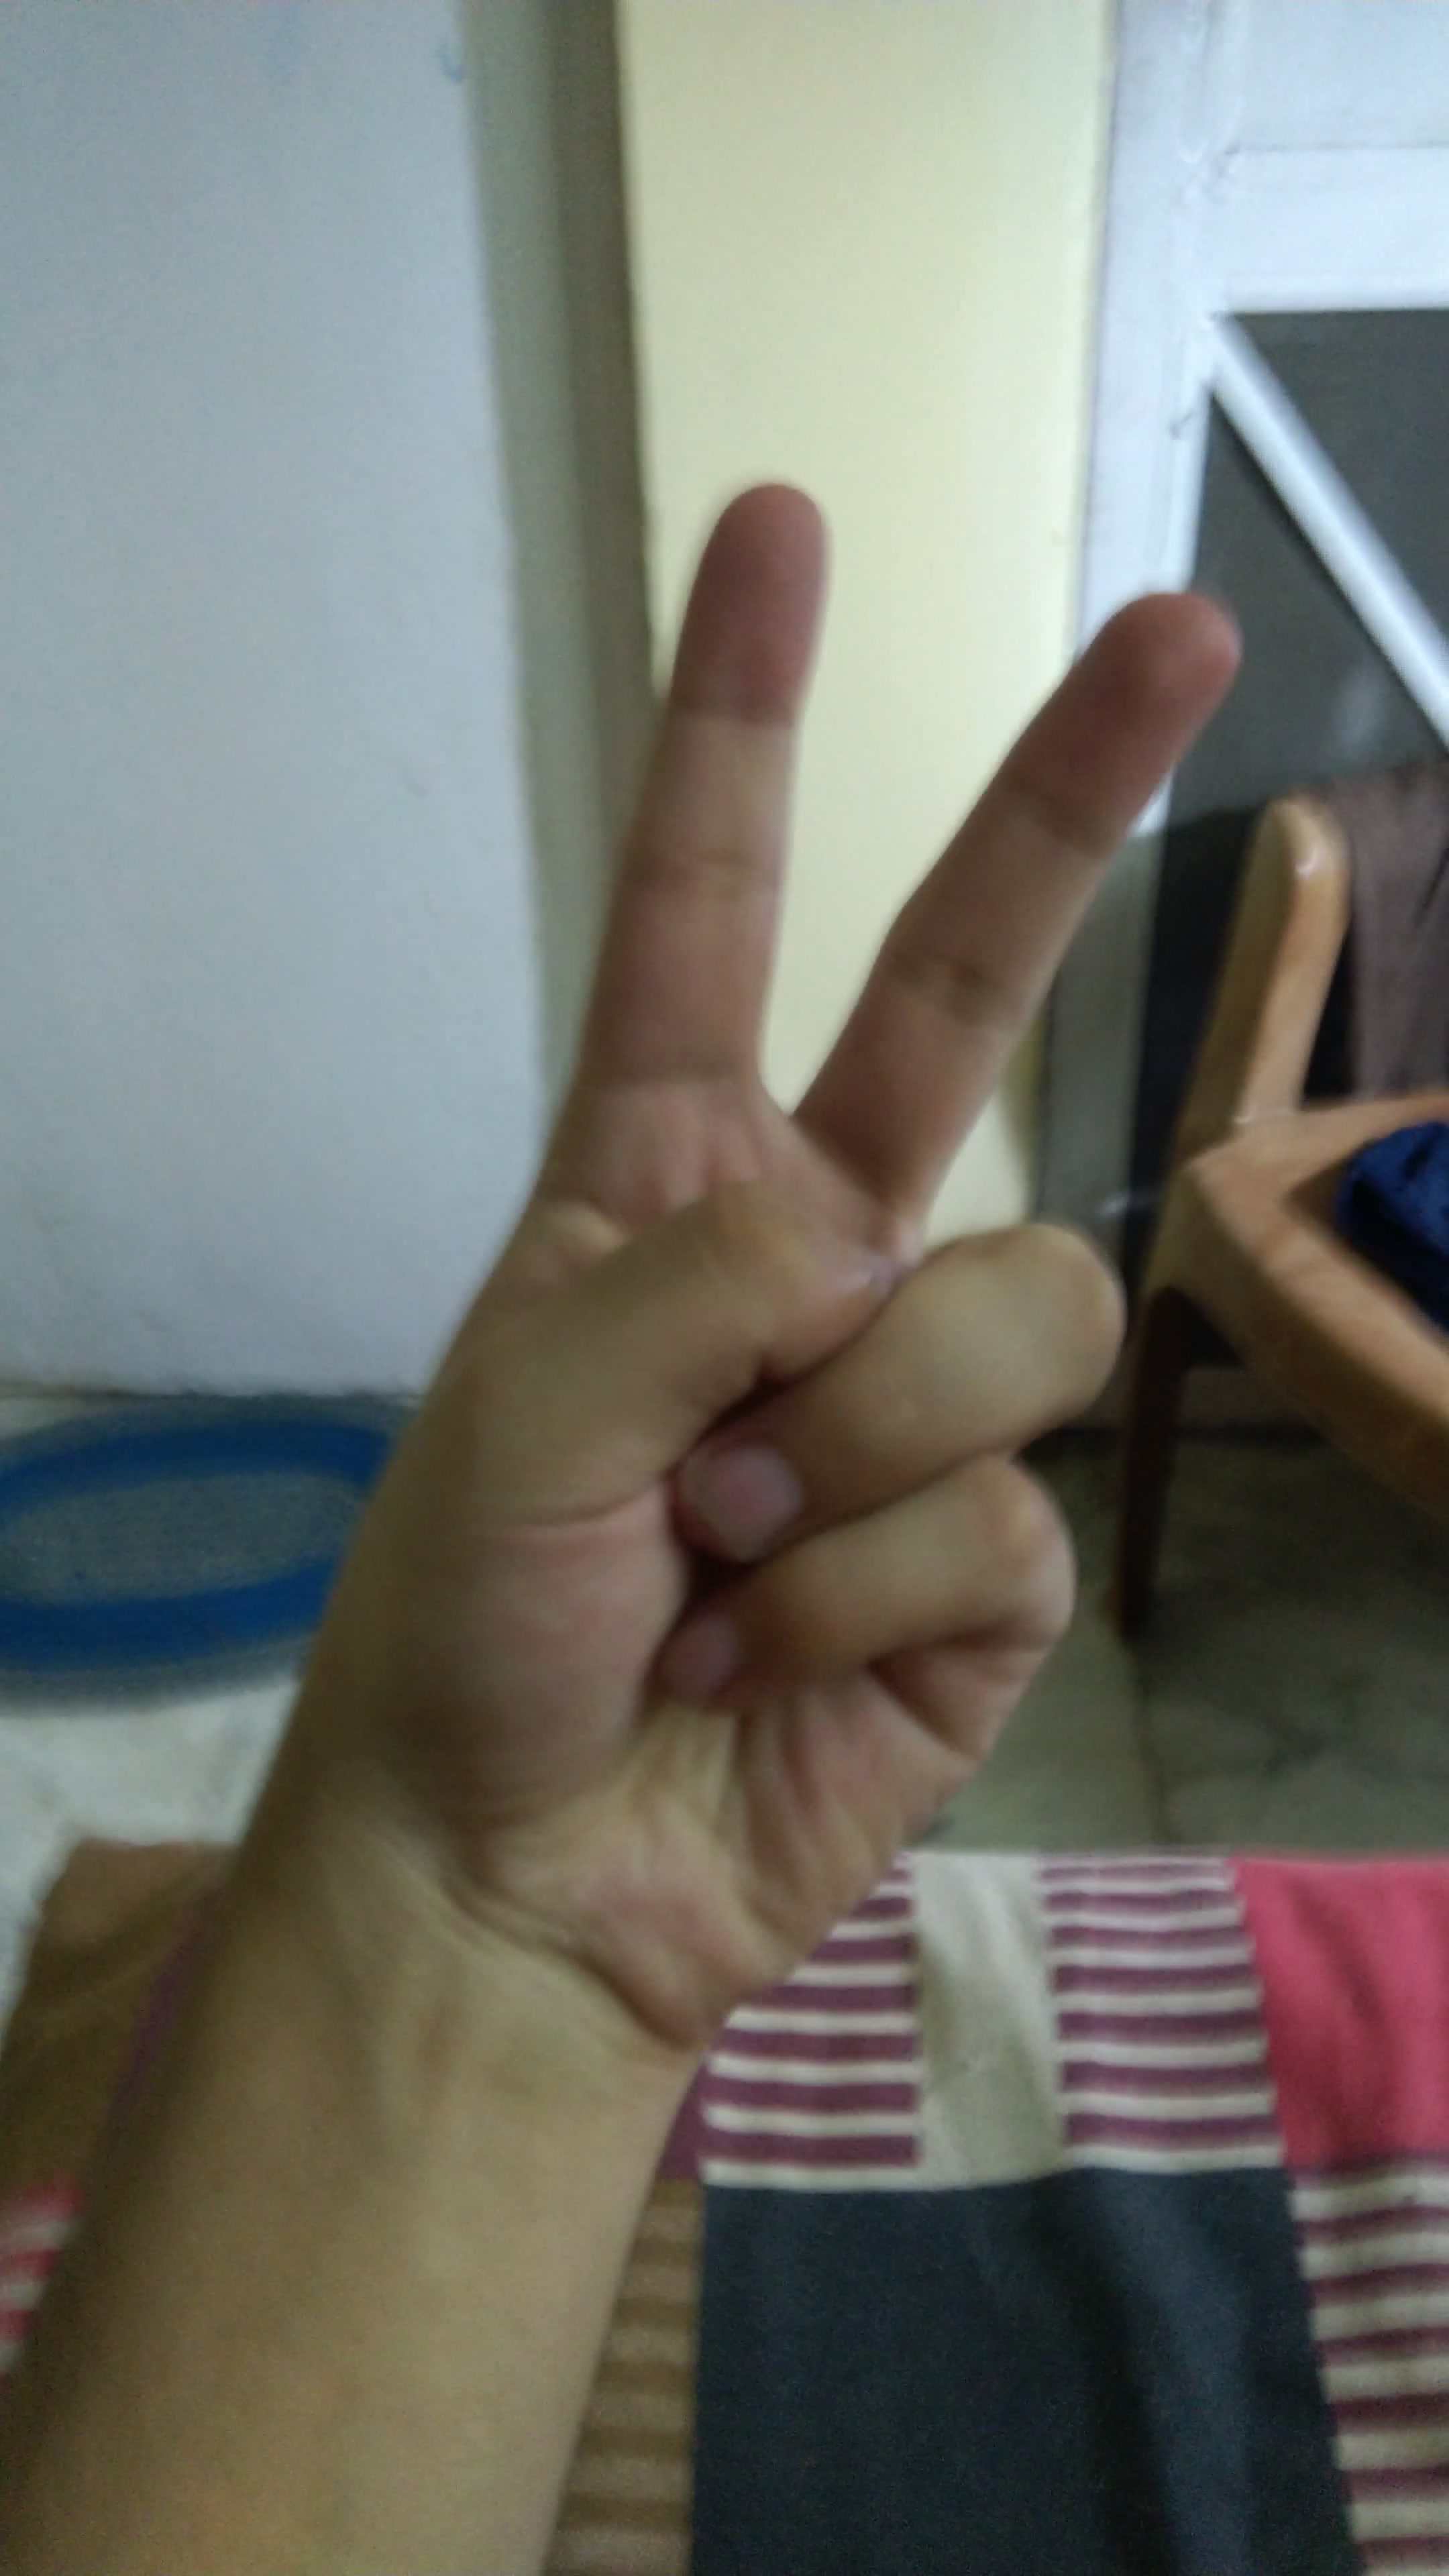hand: (196, 425, 1260, 2118)
